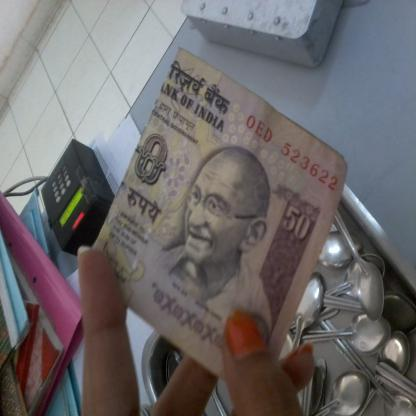Old50Front: (91, 48, 348, 383)
